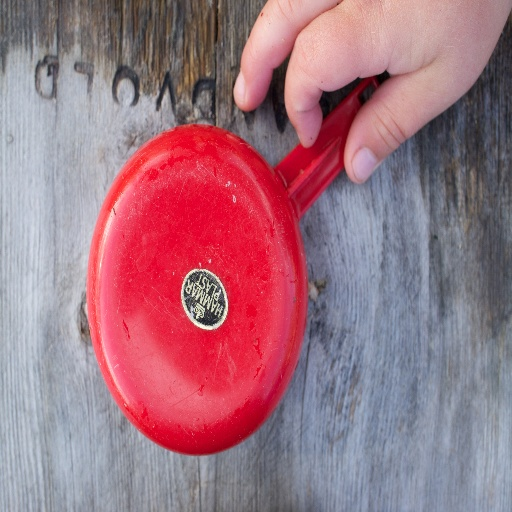hand: (230, 0, 511, 186)
